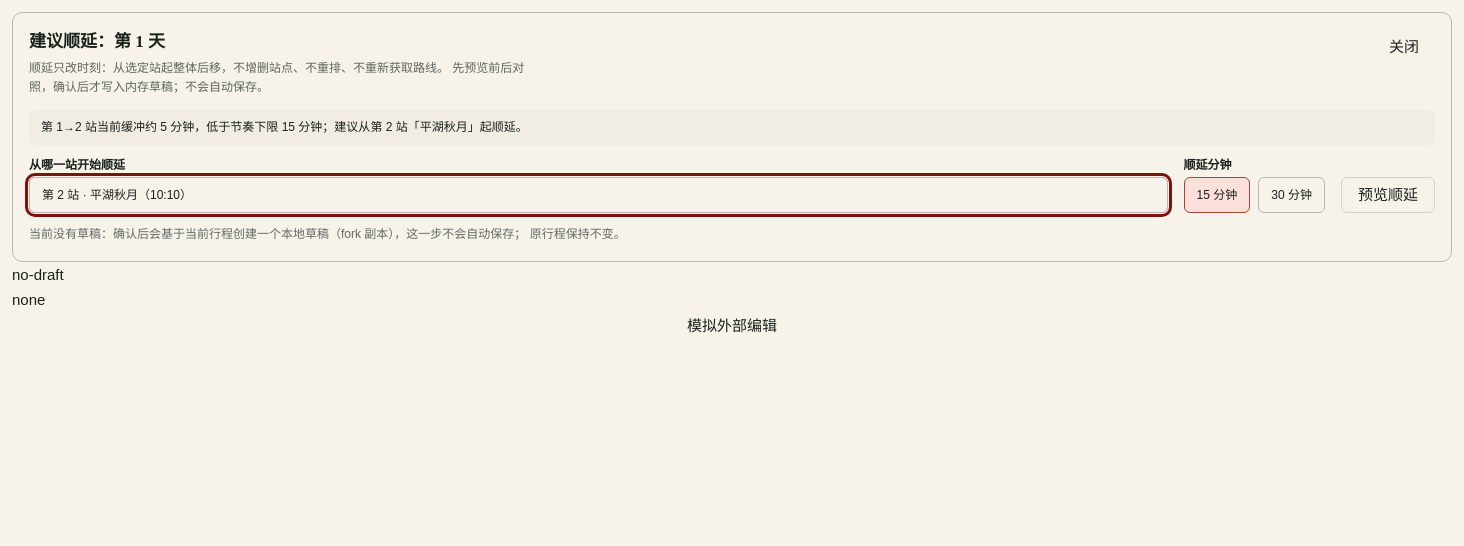
PostponePanel › 默认选中体检建议起点；30 分钟预览显示级联前后对照，预览不写草稿
Expected: the text with test id "postpone-suggestion" shows "建议从第 2 站", 41,120 -> 528,134
Expected: the dropdown with test id "postpone-target" shows "第 2 站 · 平湖秋月（10:10）", 29,177 -> 1168,213
Step 1. Click the button with test id "postpone-minutes-30" → (1292, 195), box 1258,177 -> 1325,213
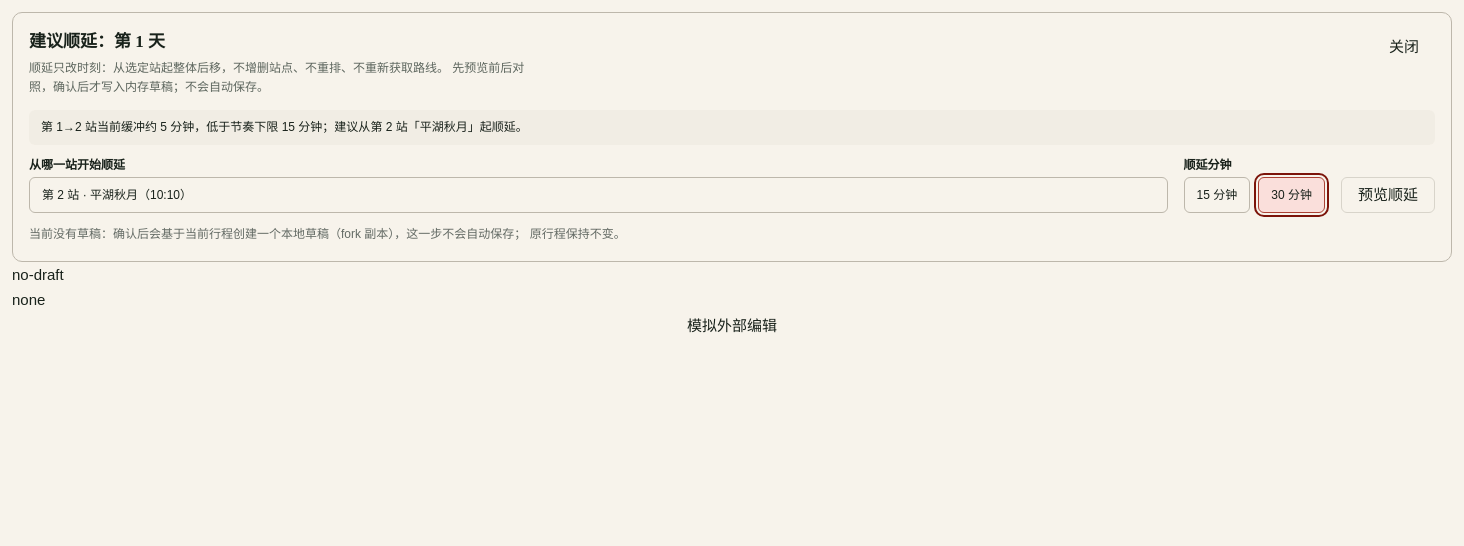
Step 2. Click the button with test id "postpone-preview-action" → (1388, 195), box 1341,177 -> 1435,213
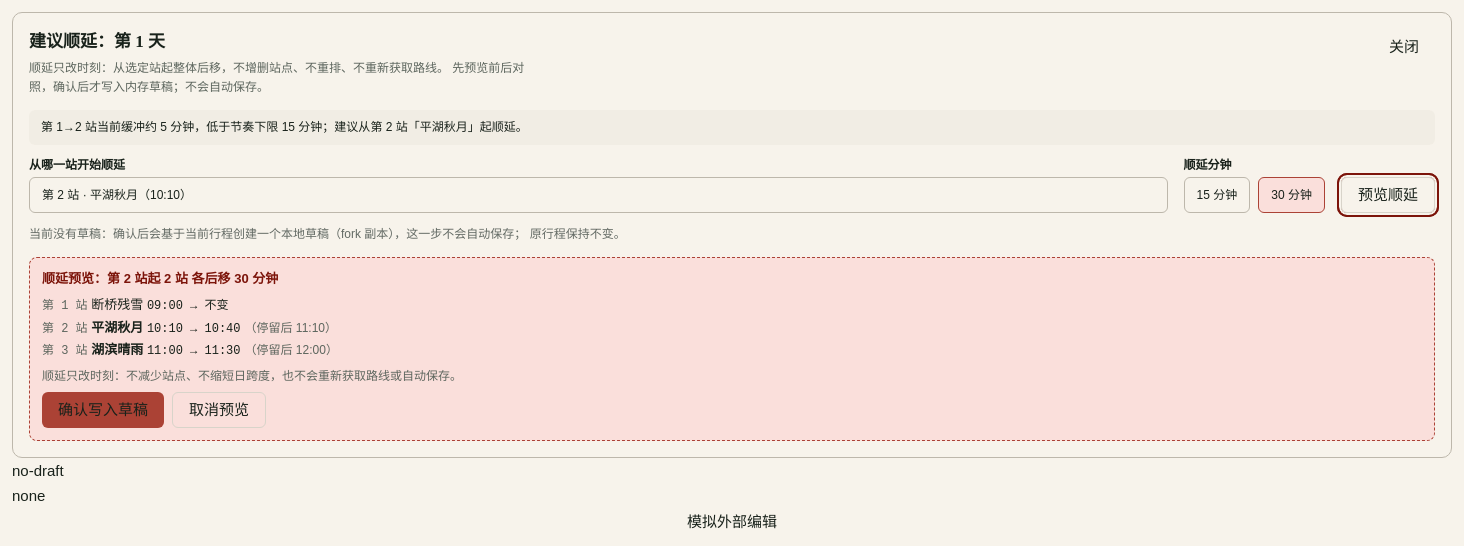
Expected: the element with test id "postpone-preview" shows "10:10 → 10:40", 29,256 -> 1435,441
Expected: the element with test id "postpone-preview" shows "11:00 → 11:30", 29,256 -> 1435,441
Expected: the element with test id "postpone-preview" shows "09:00 → 不变", 29,256 -> 1435,441
